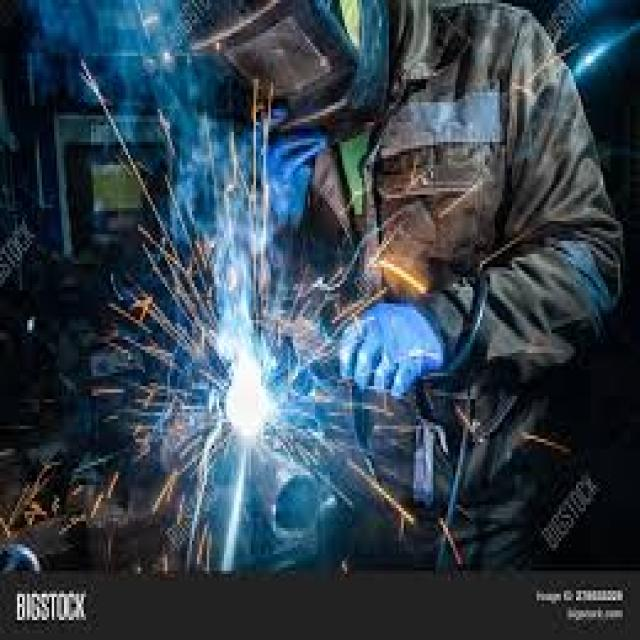welding: (228, 363, 273, 430)
